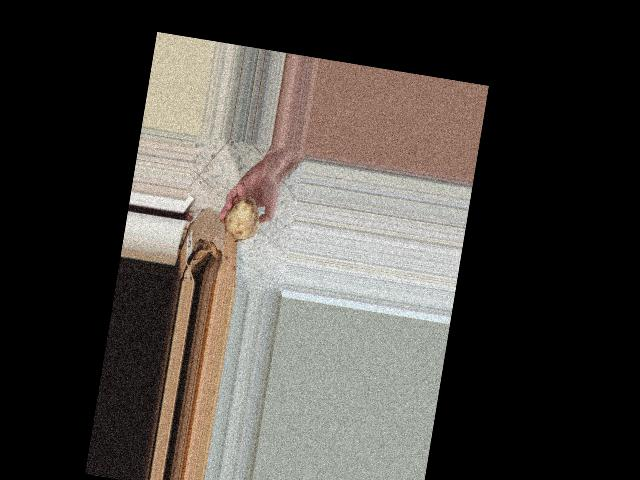onion: (218, 190, 266, 246)
